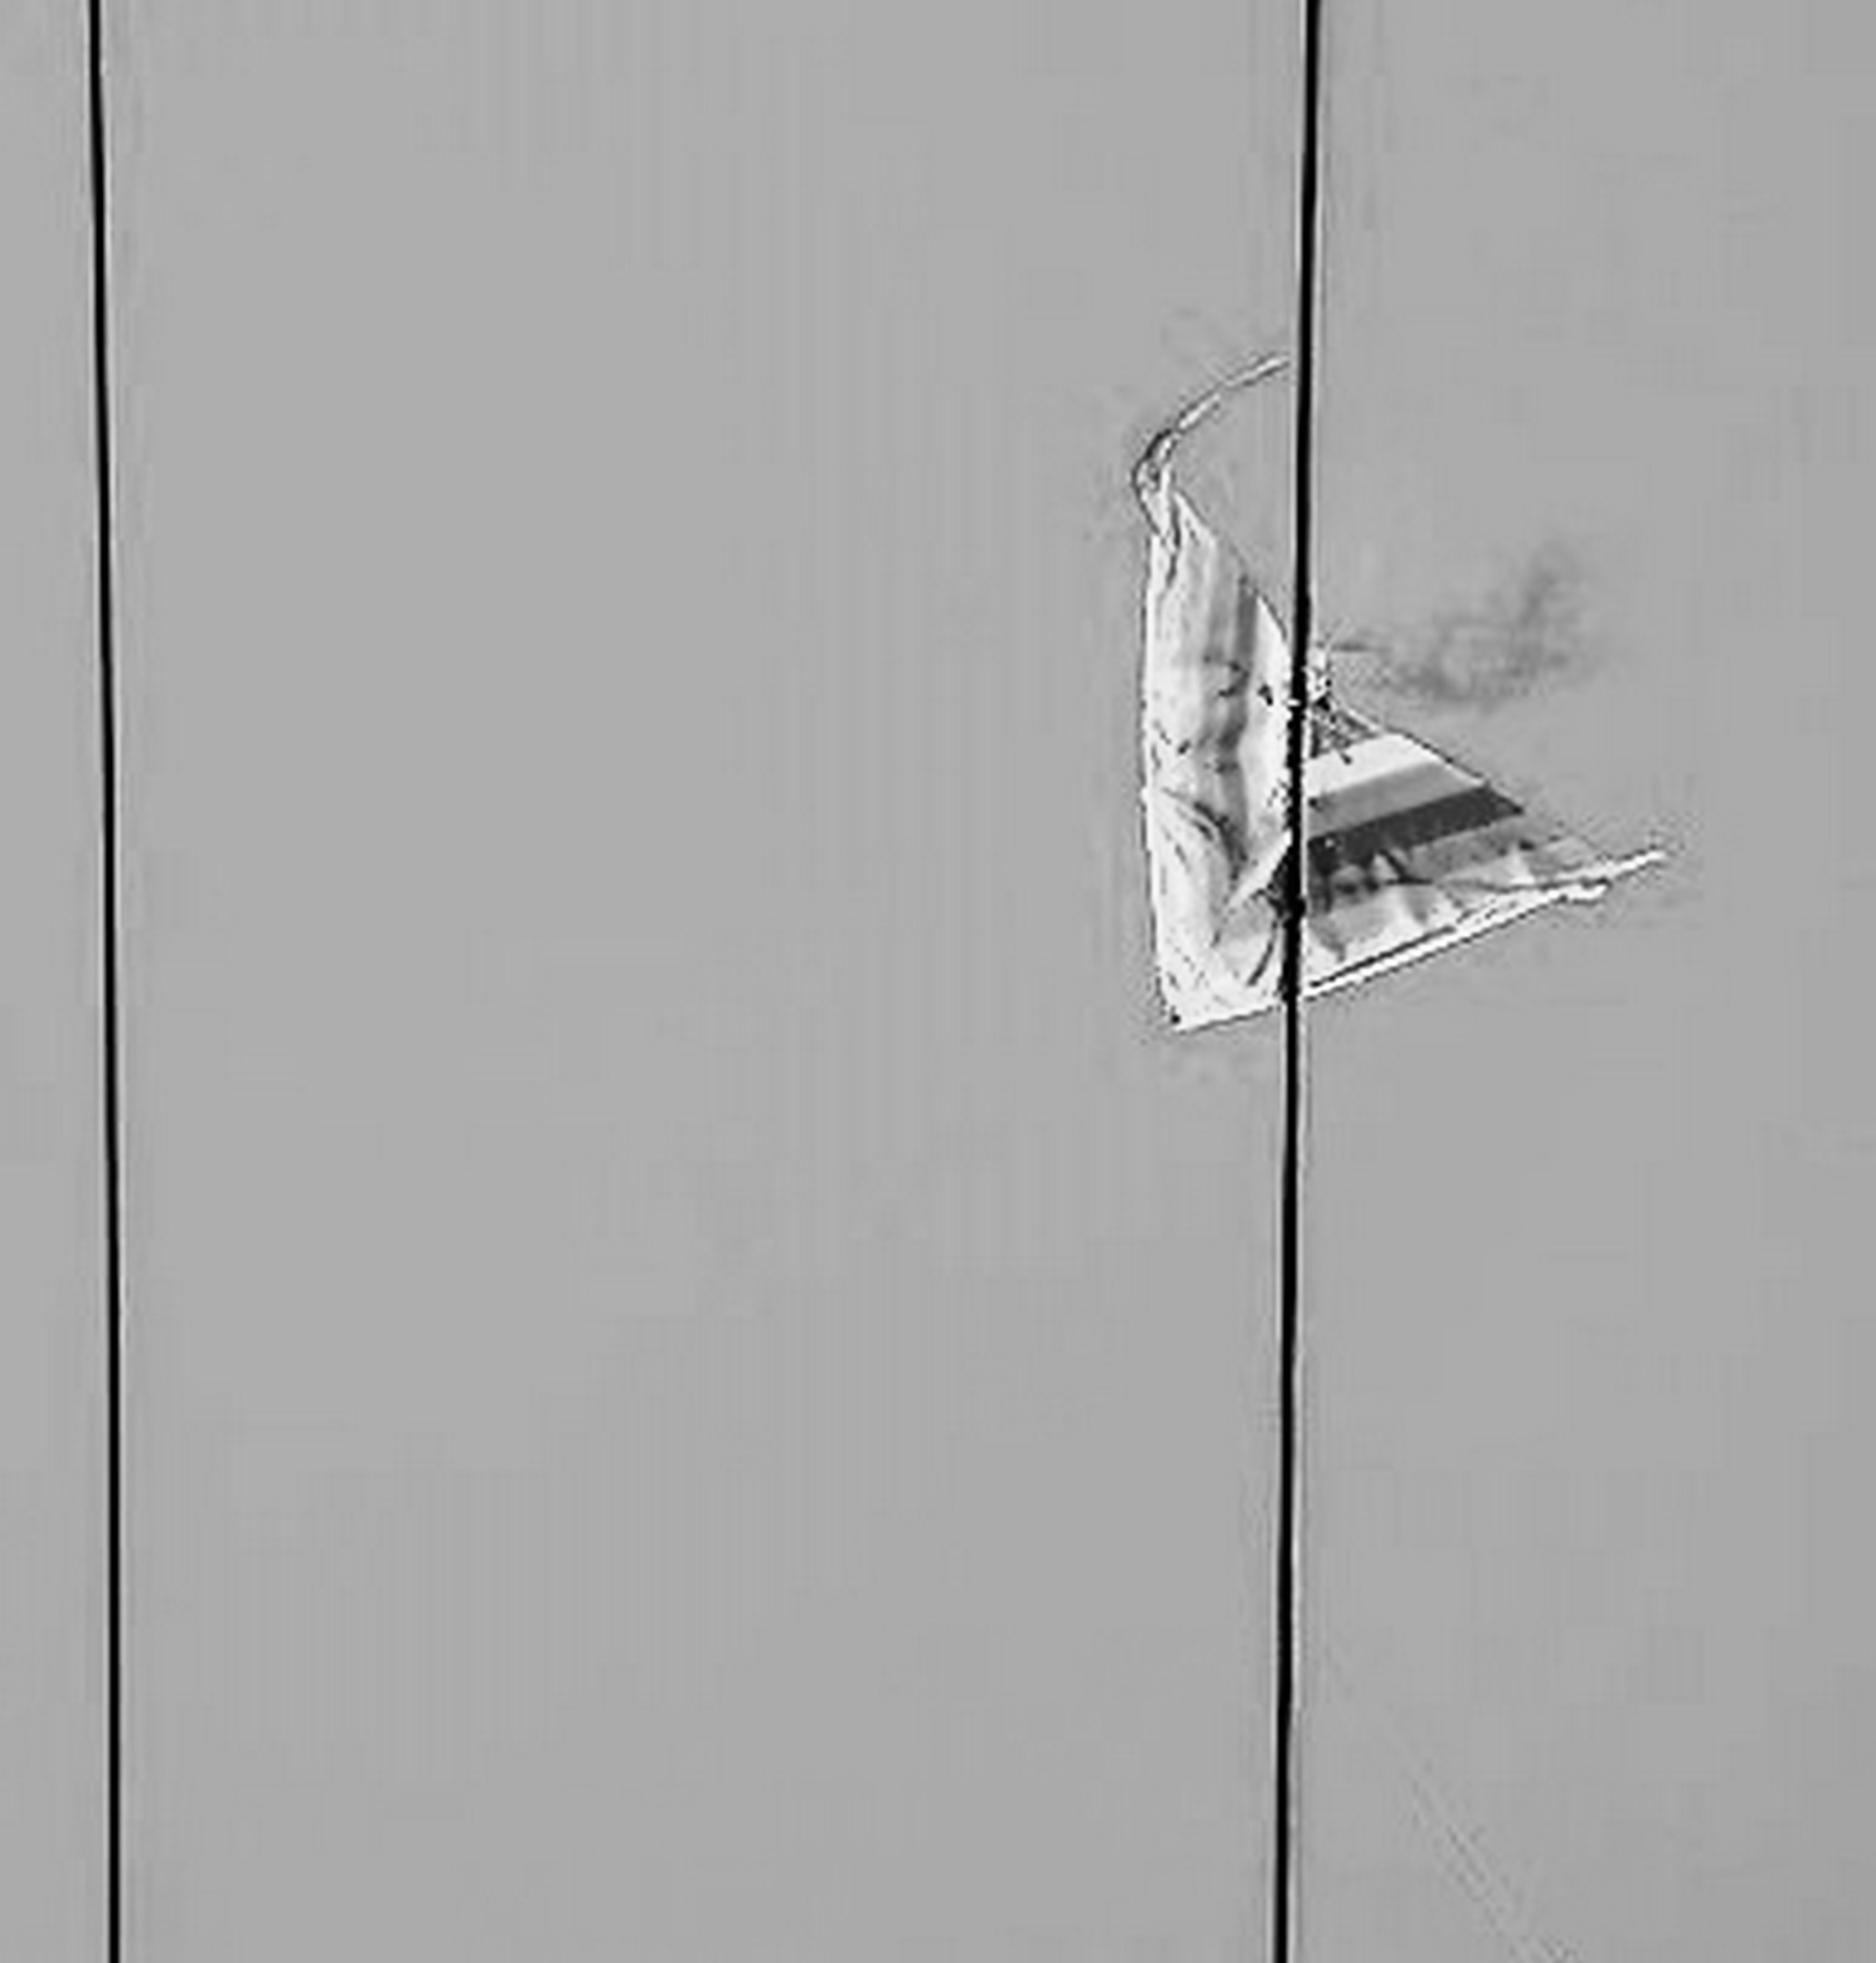wire foreign body: (1043, 359, 1704, 1060)
